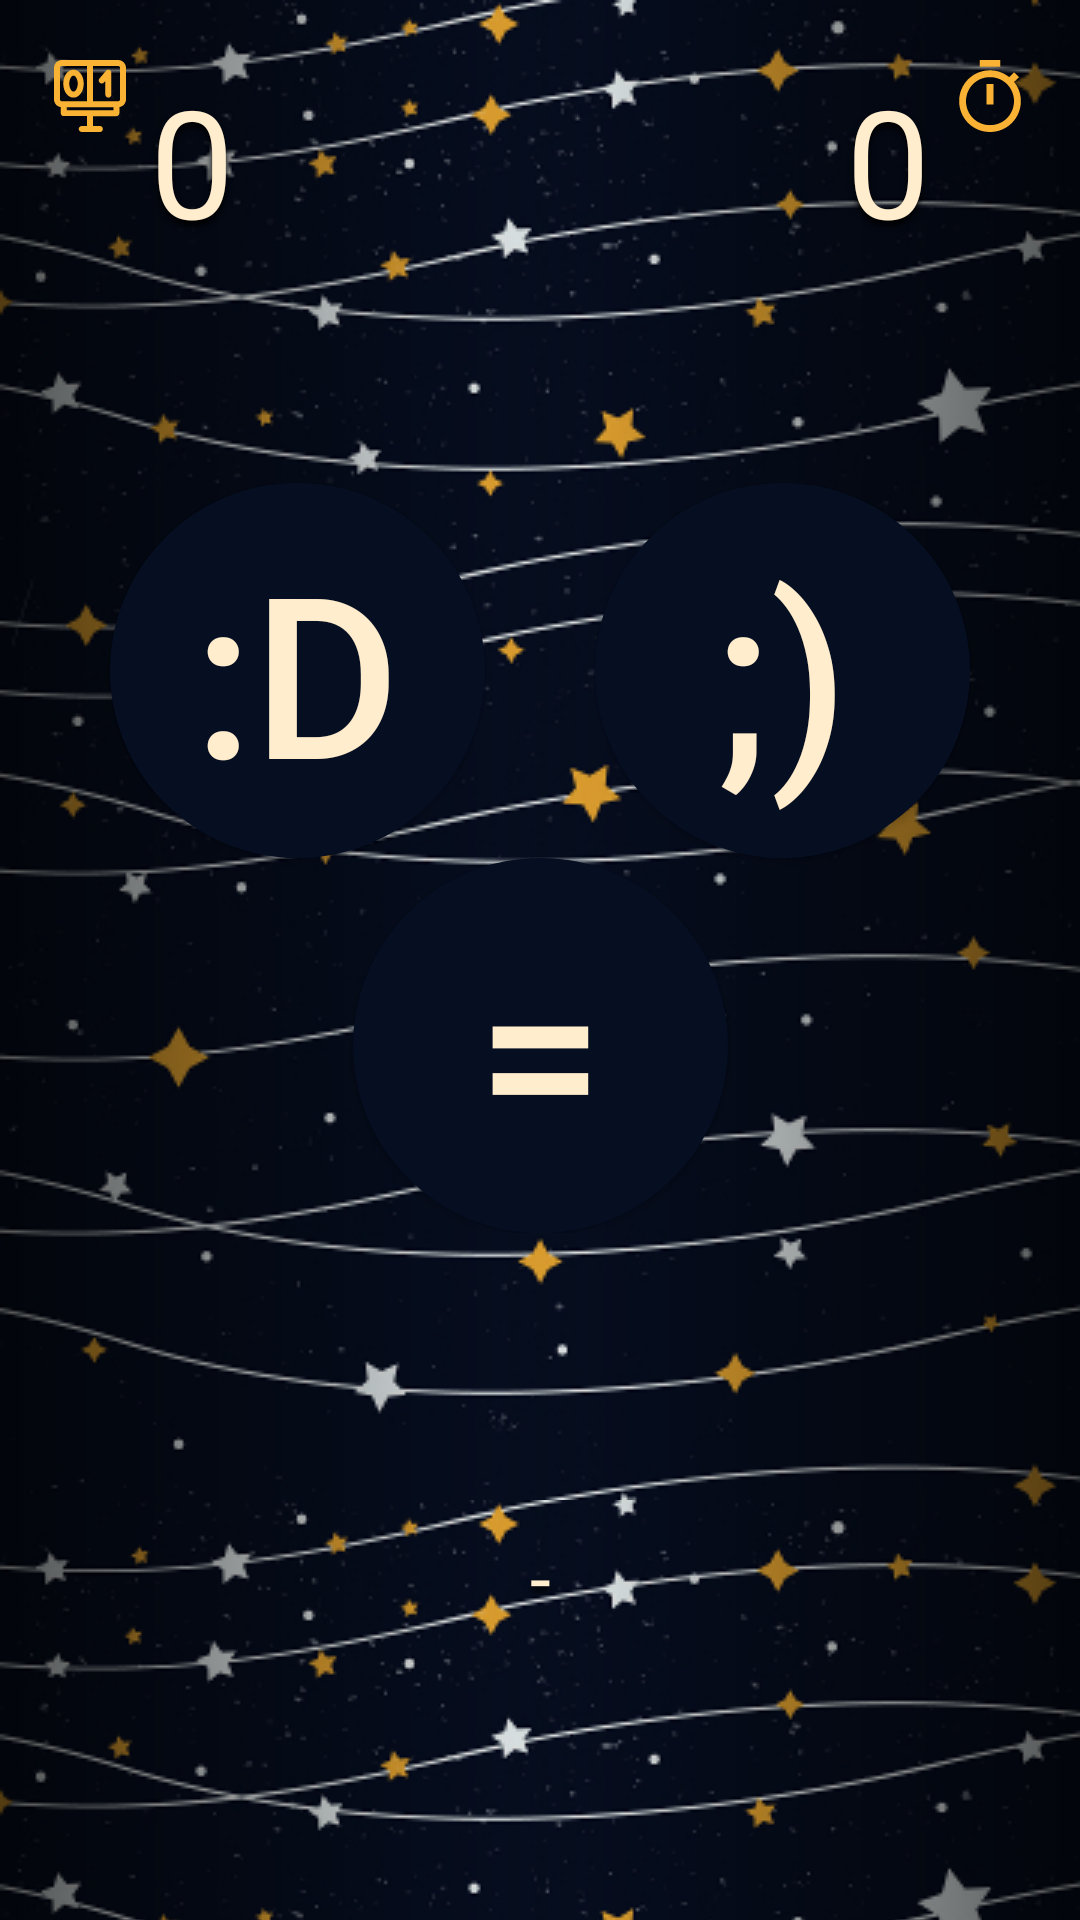

Icons on this 1080x1920 Android screen, each with the point to tap as [x,y]:
points: [90,96]
timer: [990,96]
